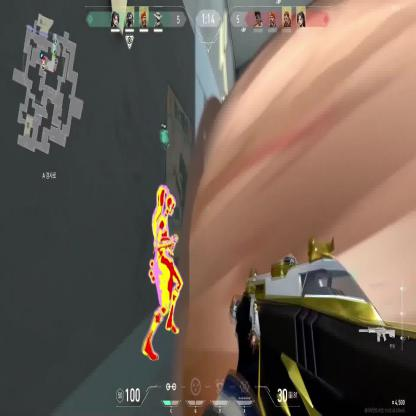enemy: (139, 180, 184, 359)
enemy_head: (165, 192, 176, 218)
